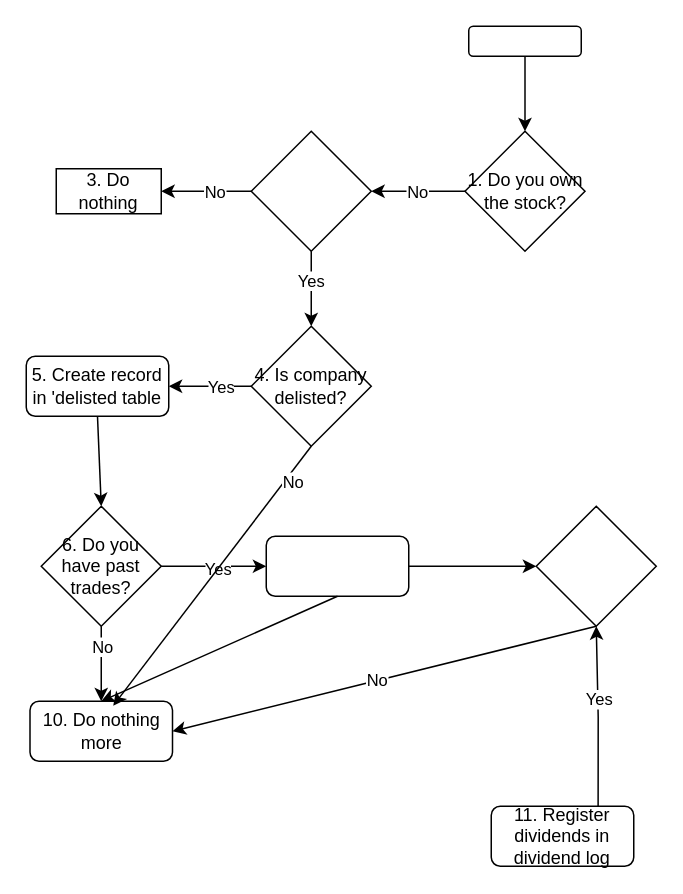
This 683x894 diagram has some shape labels left out. The shapes that lost their labels are listed below. From the top down, each one's centre as x and y in pixels, then its label:
At (x=524, y=40): "Start".
At (x=310, y=190): "2. Do you want to own it?".
At (x=337, y=565): "8. Add trades to trade log".
At (x=595, y=565): "9. Do you have past dividends?".
